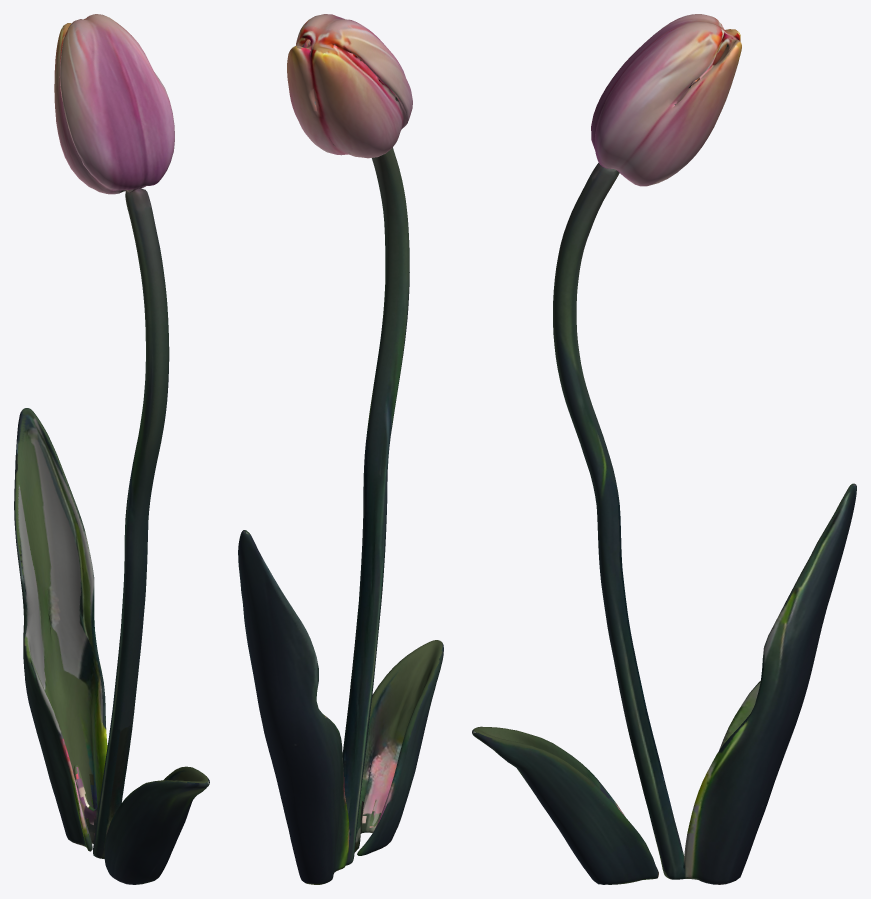
File: flower.fbx
3 views of the same model, side by side, from view 1: azimuth 30°, elevation 25°; view 2: azimuth 150°, elevation 25°; view 3: azimuth 270°, elevation 25° (orthographic). The views are drawn at different scales.
Parts seen in each view (by area): view 1: tripo_node_d726558c; view 2: tripo_node_d726558c; view 3: tripo_node_d726558c.
Part boxes in pixels (bbox=[...]): tripo_node_d726558c: bbox=[14, 14, 209, 884]; tripo_node_d726558c: bbox=[238, 14, 443, 884]; tripo_node_d726558c: bbox=[472, 14, 856, 884].
Size of the model in its own units: 0.1173 by 0.9994 by 0.4066.
Materials: 1 (1 with a texture image).
